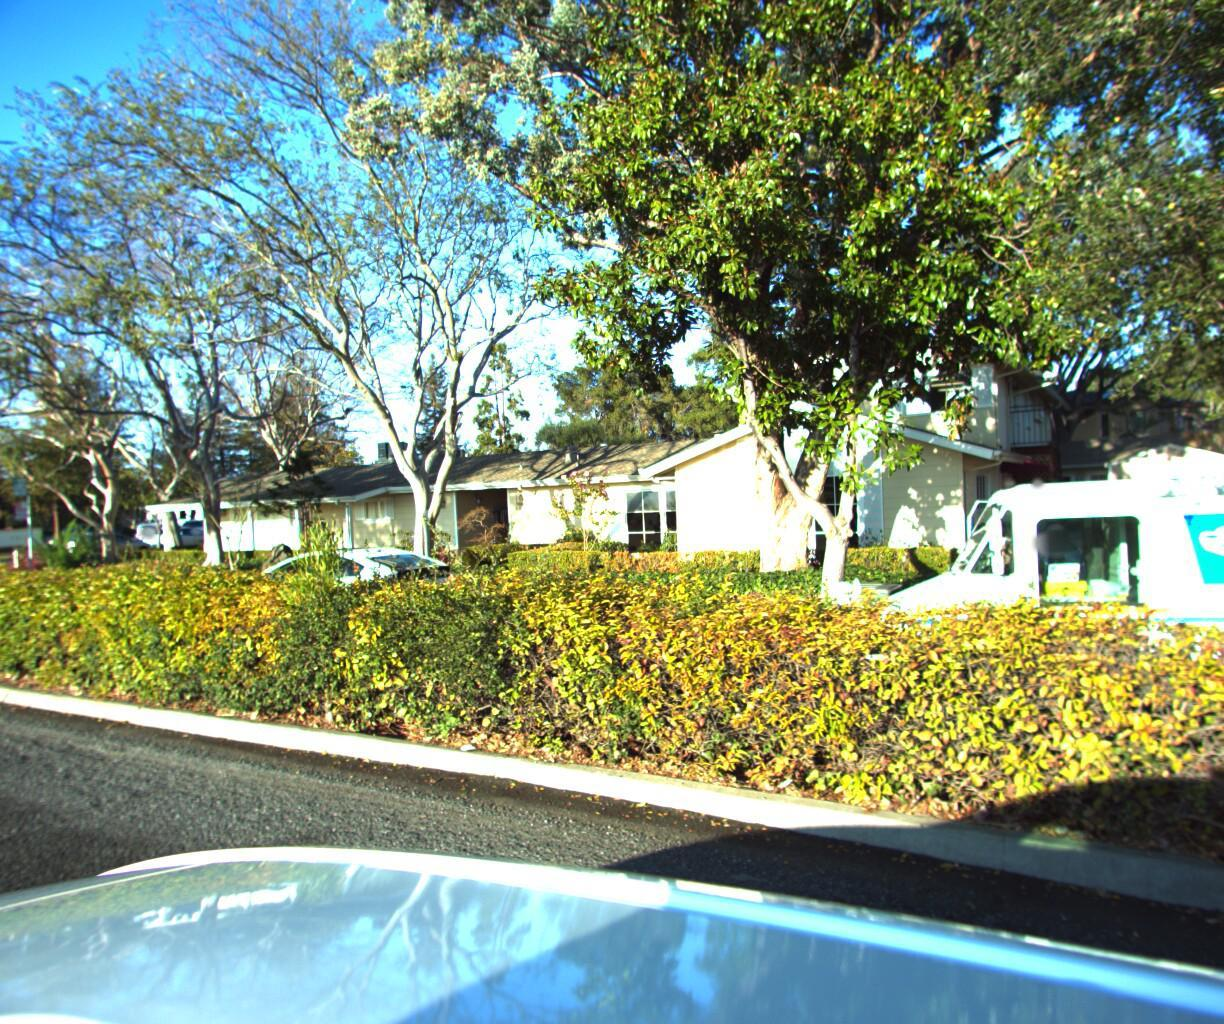car: (196, 539, 477, 659), (44, 522, 162, 562), (138, 517, 233, 553), (136, 511, 225, 545), (0, 529, 19, 617)
truck: (803, 462, 1224, 723)
